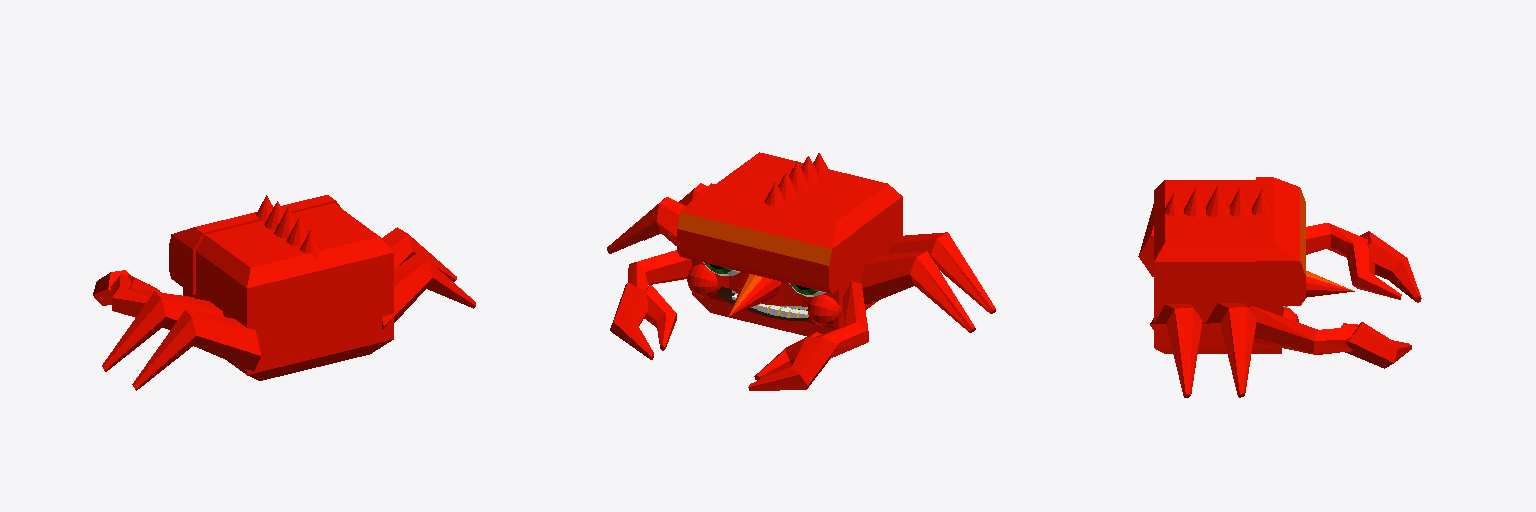
3 renders of one model, left to right at view 1: azimuth 30°, elevation 25°; view 2: azimuth 150°, elevation 25°; view 3: azimuth 270°, elevation 25°, orthographic.
Visible parts, largest first — view 1: group[number redacted], group[number redacted], group[number redacted], group[number redacted], group[number redacted], group[number redacted], group[number redacted], group[number redacted]; view 2: group[number redacted], group[number redacted], group[number redacted], group[number redacted], group[number redacted], group[number redacted], group[number redacted], group[number redacted], group[number redacted], group[number redacted], group[number redacted], group[number redacted] (+2 smaller); view 3: group[number redacted], group[number redacted], group[number redacted], group[number redacted], group[number redacted], group[number redacted], group[number redacted], group[number redacted], group[number redacted], group[number redacted], group[number redacted].
Part boxes in pixels (x1,y1,x2,y2): group[number redacted]: (183,203,393,380); group[number redacted]: (132,310,260,390); group[number redacted]: (102,291,223,371); group[number redacted]: (169,195,341,294); group[number redacted]: (381,253,475,329); group[number redacted]: (381,227,456,281); group[number redacted]: (110,274,193,317); group[number redacted]: (93,270,129,305); group[number redacted]: (677,183,853,293); group[number redacted]: (692,152,902,335); group[number redacted]: (861,251,975,332); group[number redacted]: (888,232,995,313); group[number redacted]: (748,337,837,390); group[number redacted]: (607,197,685,253); group[number redacted]: (610,283,653,359); group[number redacted]: (816,281,868,358); group[number redacted]: (628,250,691,290); group[number redacted]: (729,273,781,316); group[number redacted]: (644,284,676,350); group[number redacted]: (808,294,842,325); group[number redacted]: (1154,180,1283,353); group[number redacted]: (1256,177,1305,305); group[number redacted]: (1249,306,1357,354); group[number redacted]: (1205,303,1256,397); group[number redacted]: (1150,304,1202,397); group[number redacted]: (1360,231,1421,302); group[number redacted]: (1345,322,1411,368); group[number redacted]: (1346,242,1401,299); group[number redacted]: (1306,223,1367,257); group[number redacted]: (1306,271,1354,297); group[number redacted]: (1138,204,1153,276).
Size of the model in its own units: 1.47 by 0.5604 by 0.9952.